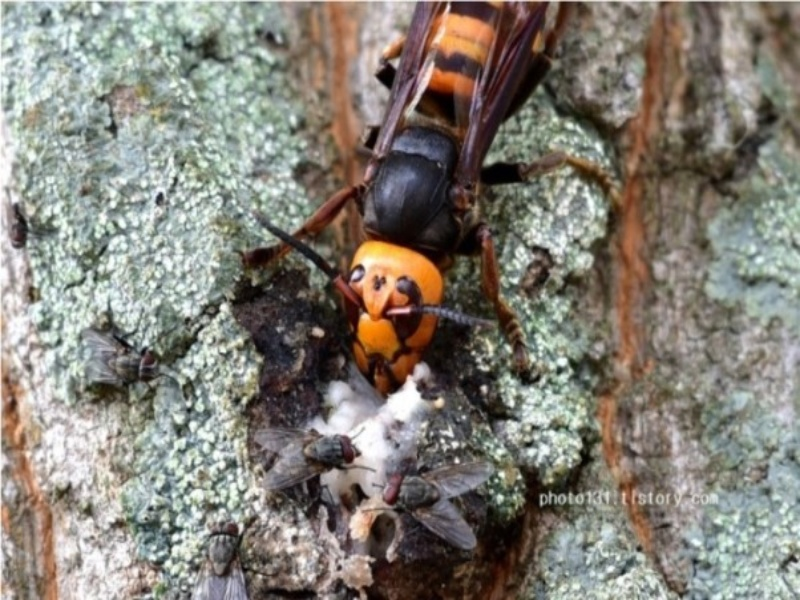asian_giant_hornet: (328, 2, 554, 396)
